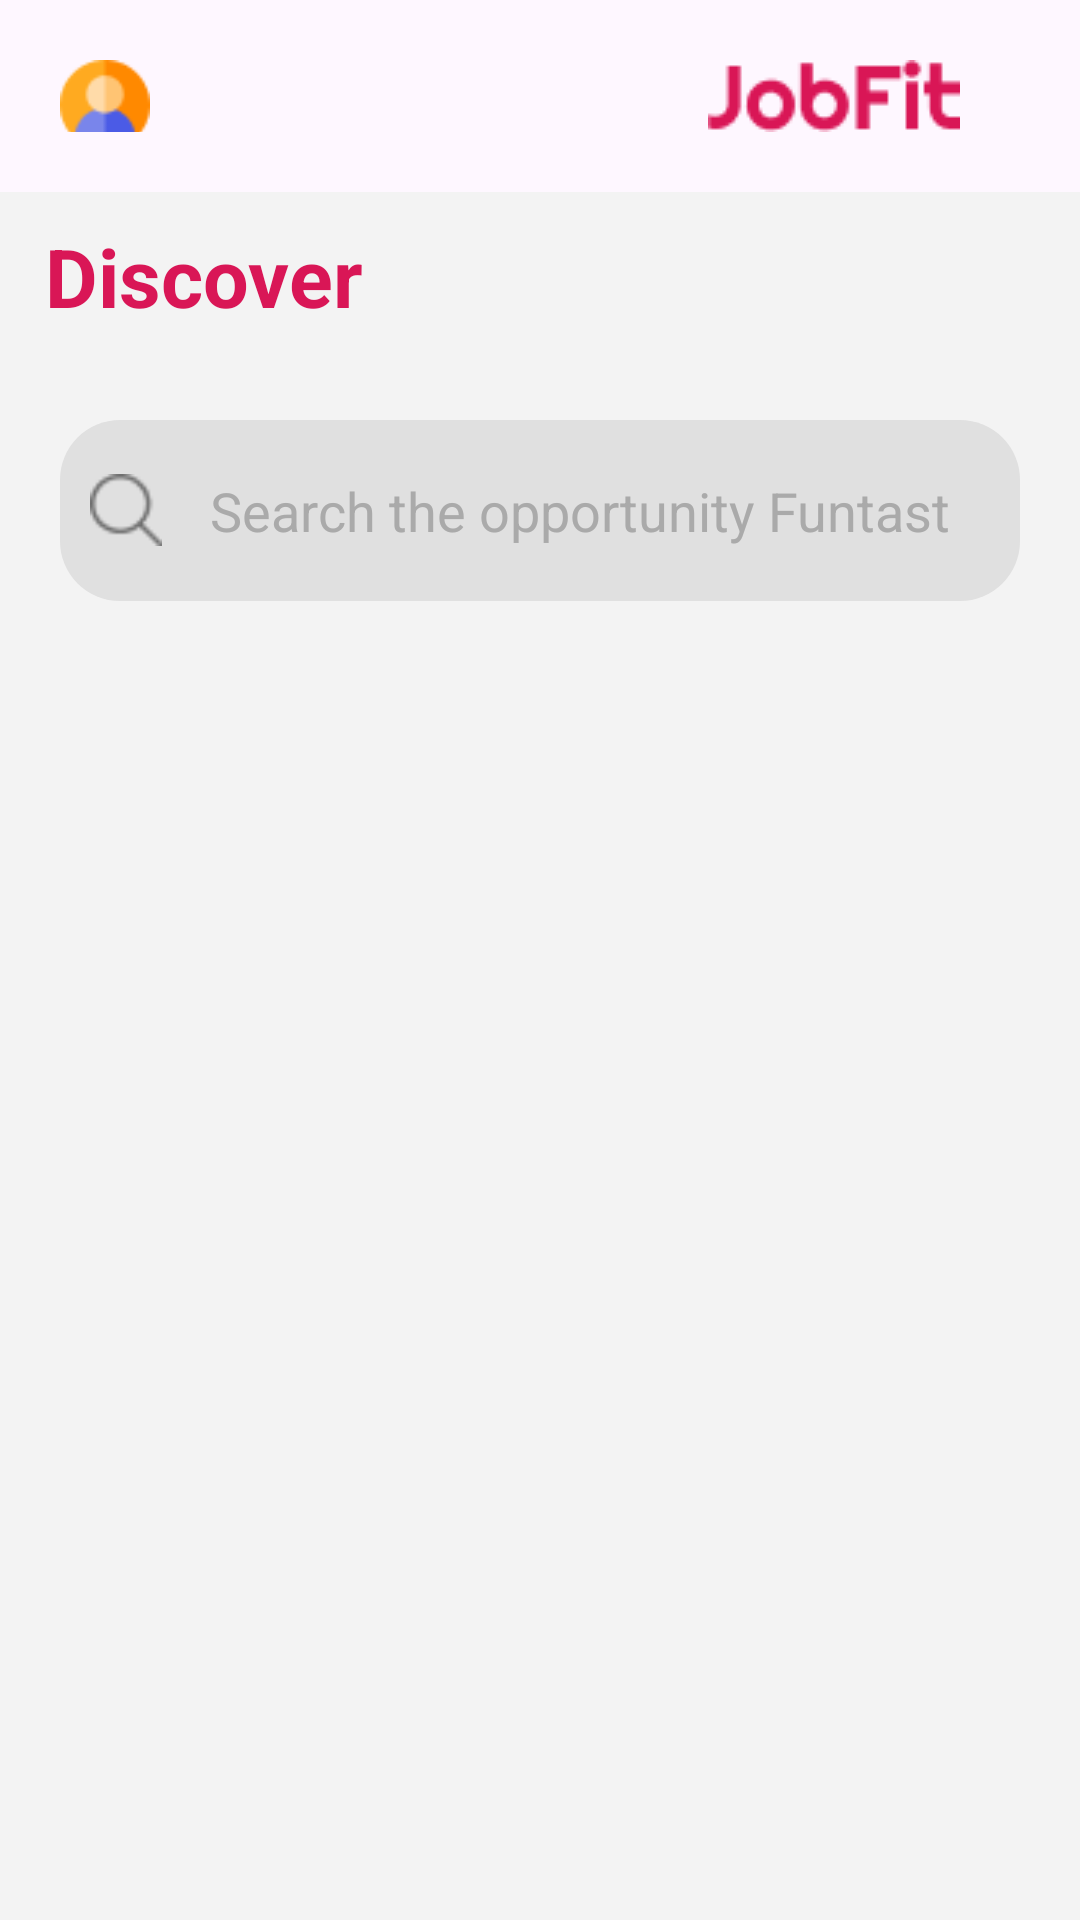

Icon click points for this 1080×1920 phone screenshot, format (x,y):
search tool: (126,510)
user head: (105,96)
